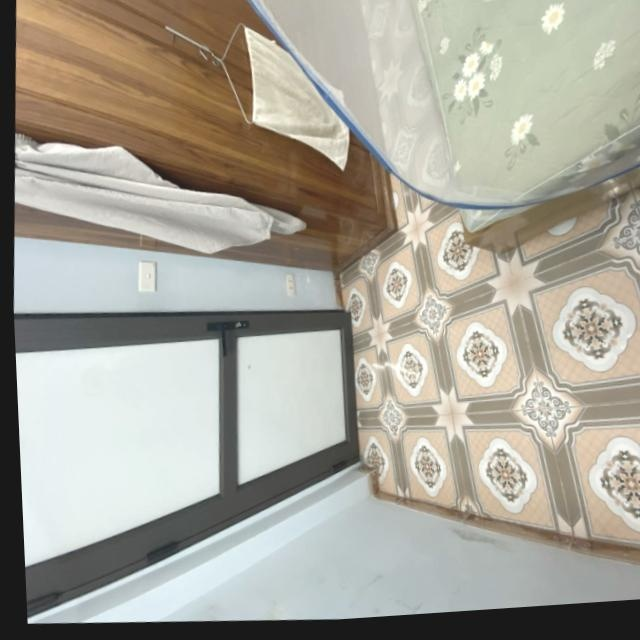outlet: (283, 271, 297, 297)
